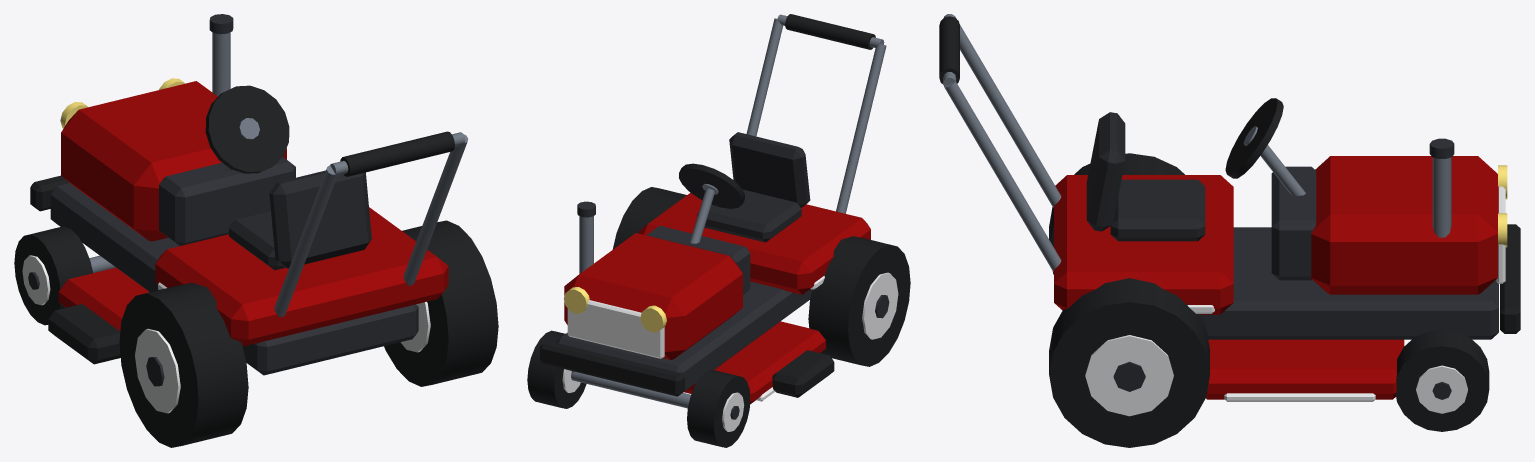
File: mower_rideon - Copy.fbx
3 views of the same model, side by side, from view 1: azimuth 30°, elevation 25°; view 2: azimuth 150°, elevation 25°; view 3: azimuth 270°, elevation 25° (orthographic). The views are drawn at different scales.
Visible parts, largest first — view 1: Body, Wheel_RL, Wheel_RR, Wheel_FL; view 2: Body, Wheel_RL, Wheel_FL, Wheel_FR, Wheel_RR; view 3: Body, Wheel_RR, Wheel_FR, Wheel_RL.
Boxes of the visible parts, x1=… form: Body: x1=30, y1=14, x2=468, y2=375; Wheel_RL: x1=119, y1=282, x2=248, y2=447; Wheel_RR: x1=384, y1=220, x2=498, y2=386; Wheel_FL: x1=14, y1=226, x2=92, y2=325; Body: x1=540, y1=14, x2=886, y2=408; Wheel_RL: x1=808, y1=236, x2=910, y2=366; Wheel_FL: x1=687, y1=369, x2=750, y2=447; Wheel_FR: x1=527, y1=330, x2=586, y2=408; Wheel_RR: x1=612, y1=187, x2=686, y2=249; Body: x1=939, y1=14, x2=1520, y2=401; Wheel_RR: x1=1049, y1=278, x2=1209, y2=447; Wheel_FR: x1=1395, y1=329, x2=1489, y2=431; Wheel_RL: x1=1049, y1=153, x2=1184, y2=274.
Bounding box in the file's own units: 3.87 × 3.86 × 6.14.
